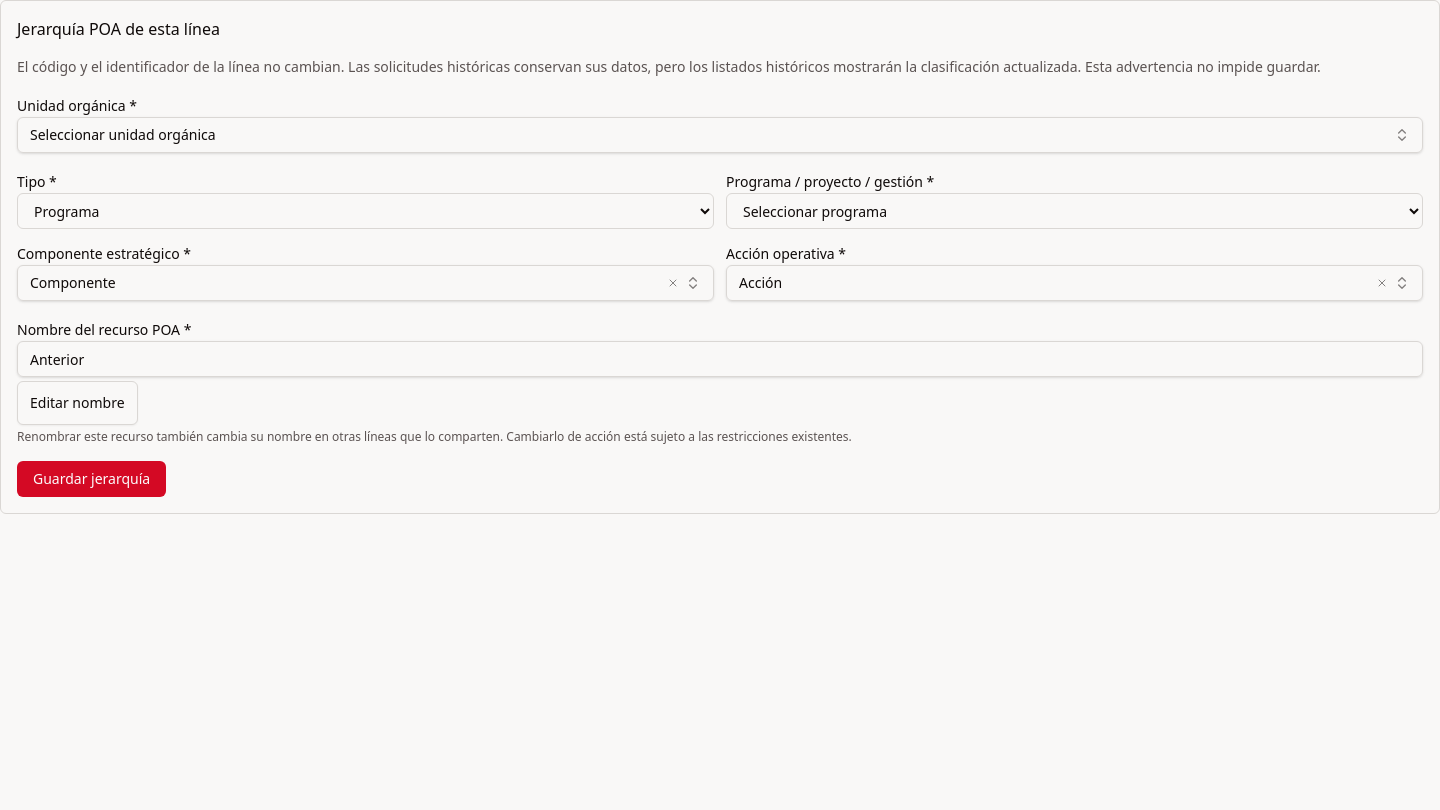
Test case: edición de jerarquía POA › blocks empty catalog validation without losing the draft
Replace the text in the field labelled "Nombre del recurso POA *" with "Borrador intacto" at (720, 359), box top-left (17, 341), bottom-right (1423, 377)
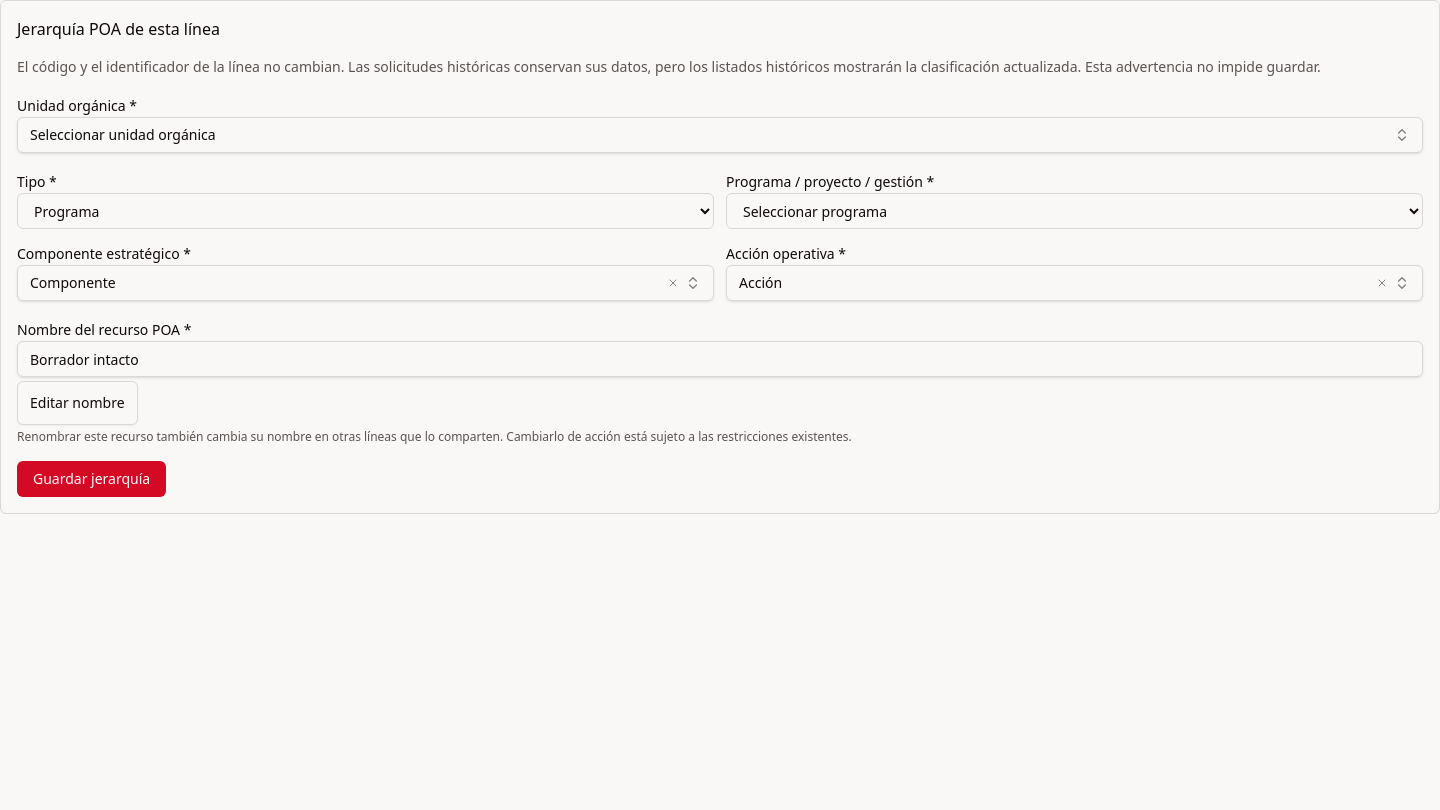
Click the button "Guardar jerarquía" at (92, 479), box top-left (17, 461), bottom-right (166, 497)
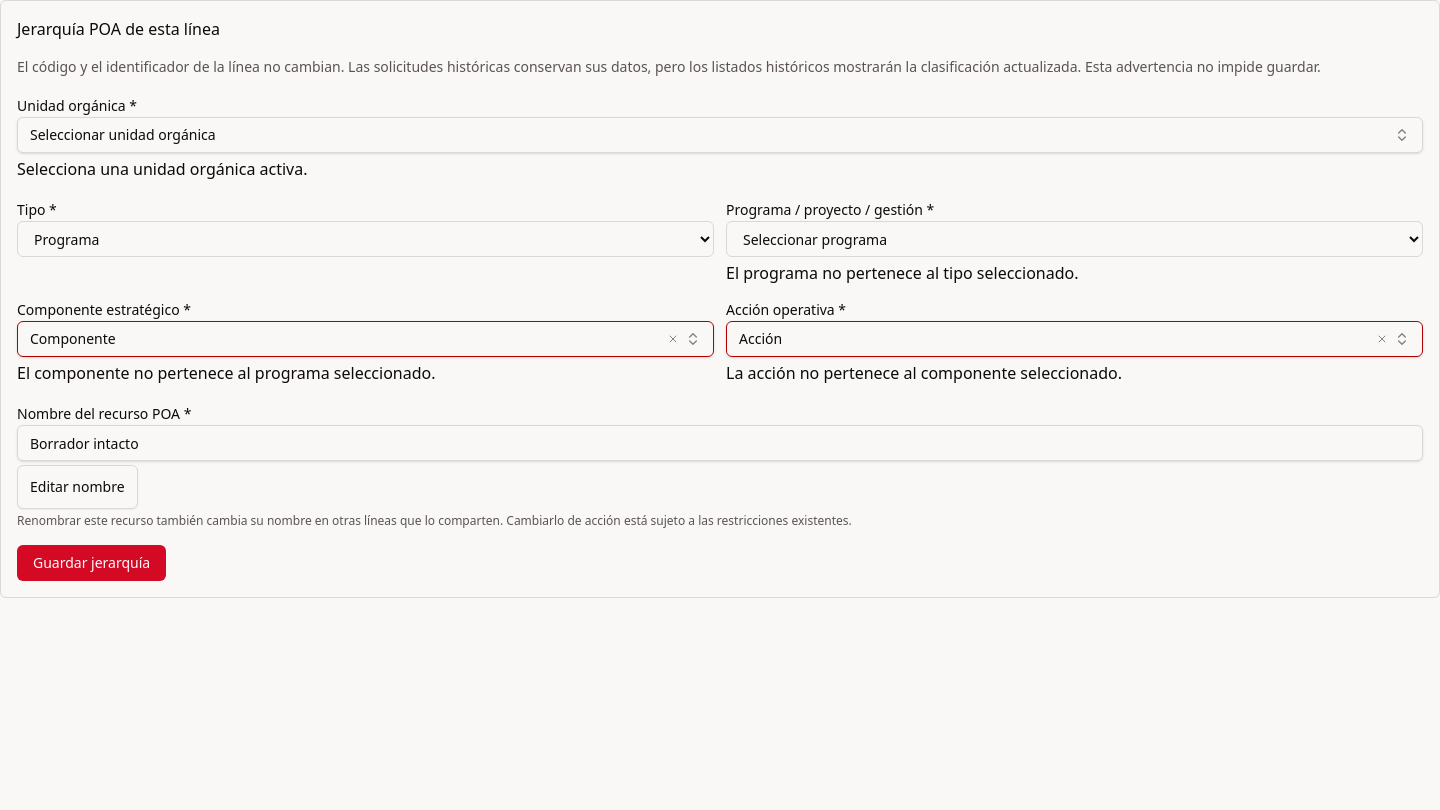
Expected: the message "Selecciona una unidad orgánica activa." is shown, top-left (17, 158), bottom-right (308, 180)
